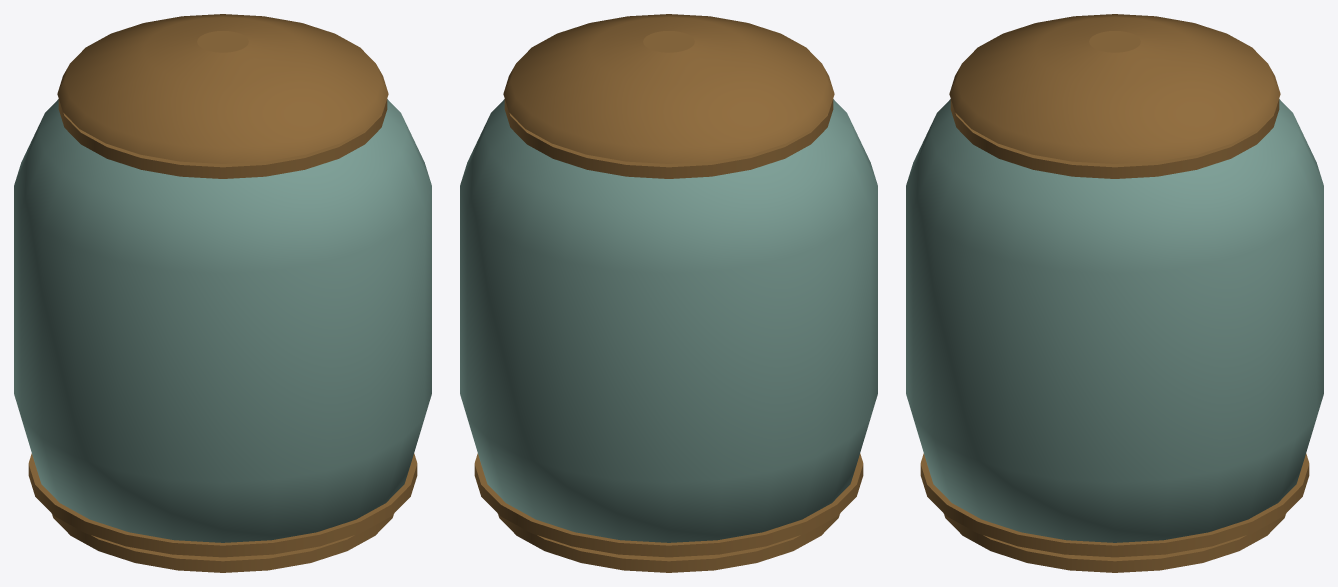
The model's file is FairyJar.fbx.
3 views of the same model, side by side, from view 1: azimuth 30°, elevation 25°; view 2: azimuth 150°, elevation 25°; view 3: azimuth 270°, elevation 25° (orthographic).
Visible parts, largest first — view 1: JarGlass, JarMetalwork; view 2: JarGlass, JarMetalwork; view 3: JarGlass, JarMetalwork.
Boxes of the visible parts, x1,y1,x2,y2 form: JarGlass: (14,99,431,542); JarMetalwork: (28,14,417,572); JarGlass: (460,99,877,542); JarMetalwork: (474,14,863,572); JarGlass: (906,99,1323,542); JarMetalwork: (920,14,1309,572).
Size of the model in its own units: 0.2697 by 0.3255 by 0.2697.
